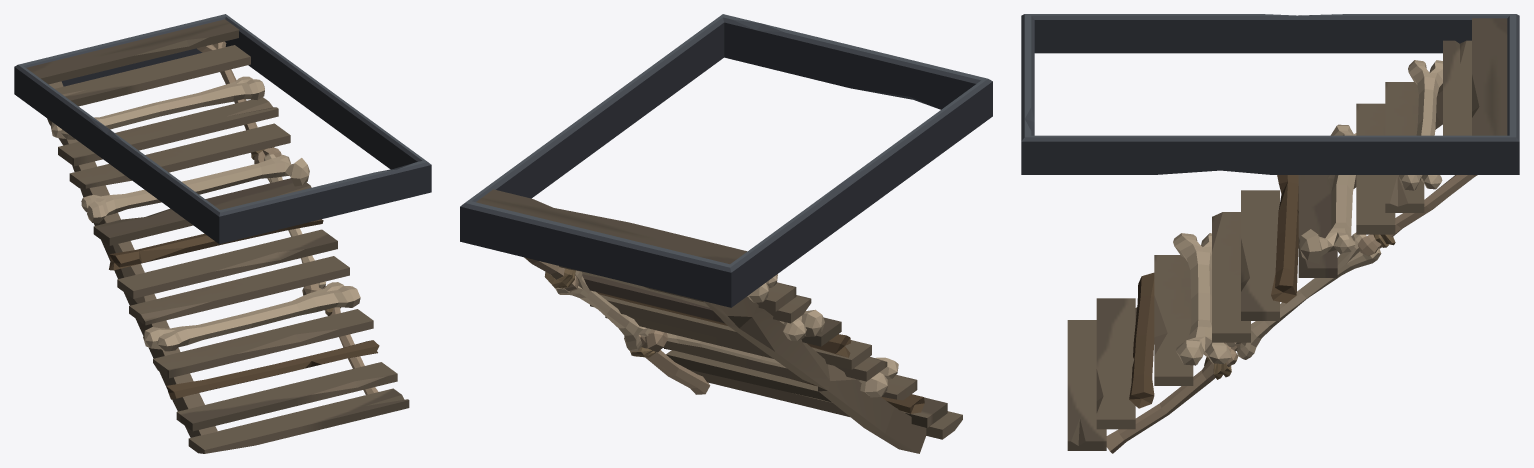
Rendered from SM_Veh_Ship_Stairs_03.fbx.
3 views of the same model, side by side, from view 1: azimuth 30°, elevation 25°; view 2: azimuth 150°, elevation 25°; view 3: azimuth 270°, elevation 25° (orthographic). The views are drawn at different scales.
Visible parts, largest first — view 1: SM_Veh_Ship_Stairs_03; view 2: SM_Veh_Ship_Stairs_03; view 3: SM_Veh_Ship_Stairs_03.
Part boxes in pixels (left/top/right/bottom): SM_Veh_Ship_Stairs_03: left=14, top=14, right=431, bottom=453; SM_Veh_Ship_Stairs_03: left=460, top=14, right=992, bottom=453; SM_Veh_Ship_Stairs_03: left=1021, top=14, right=1519, bottom=453.
Bounding box in the file's own units: 259 × 314 × 433.
